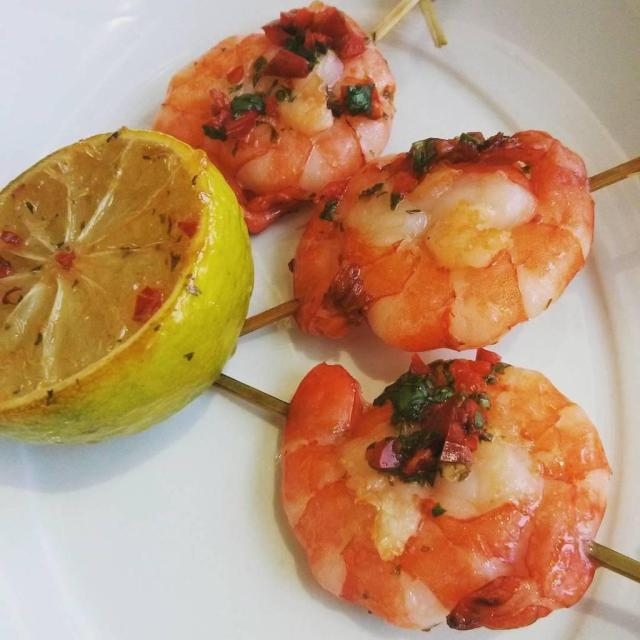Shrimp: (284, 343, 612, 628), (290, 126, 596, 352), (151, 0, 397, 234)
